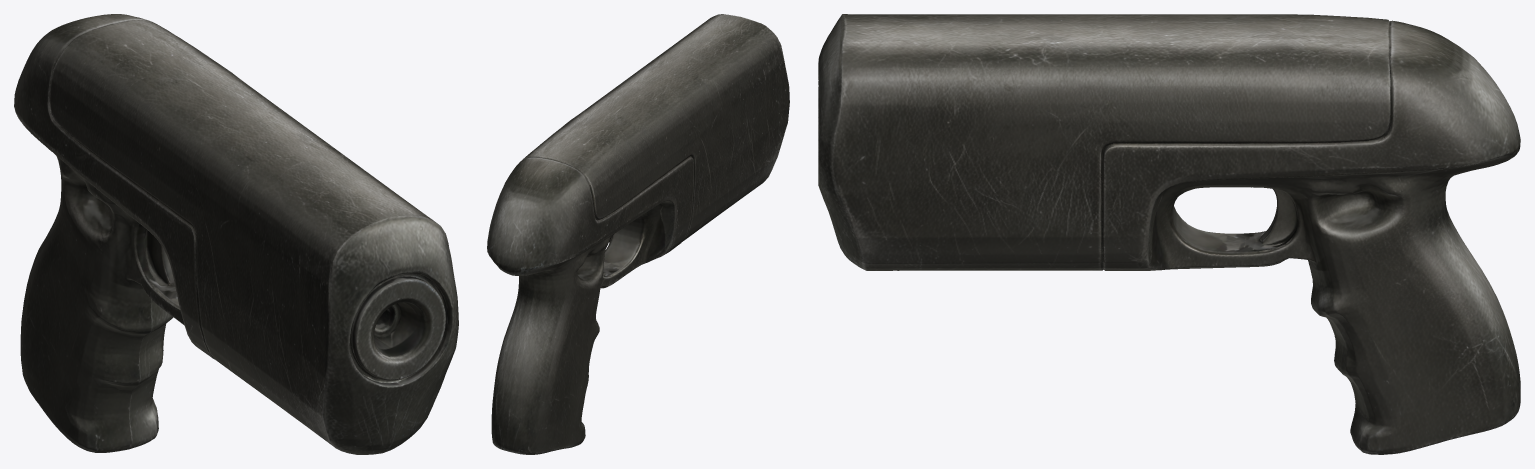
Rendered from Pistol.glb.
3 views of the same model, side by side, from view 1: azimuth 30°, elevation 25°; view 2: azimuth 150°, elevation 25°; view 3: azimuth 270°, elevation 25° (orthographic). The views are drawn at different scales.
Visible parts, largest first — view 1: texture_mapping; view 2: texture_mapping; view 3: texture_mapping.
Boxes of the visible parts, x1,y1,x2,y2 form: texture_mapping: (14, 14, 458, 454); texture_mapping: (487, 14, 789, 454); texture_mapping: (818, 14, 1520, 454).
Bounding box in the file's own units: 0.2132 × 0.6562 × 1.
1 material, 1 textured.
